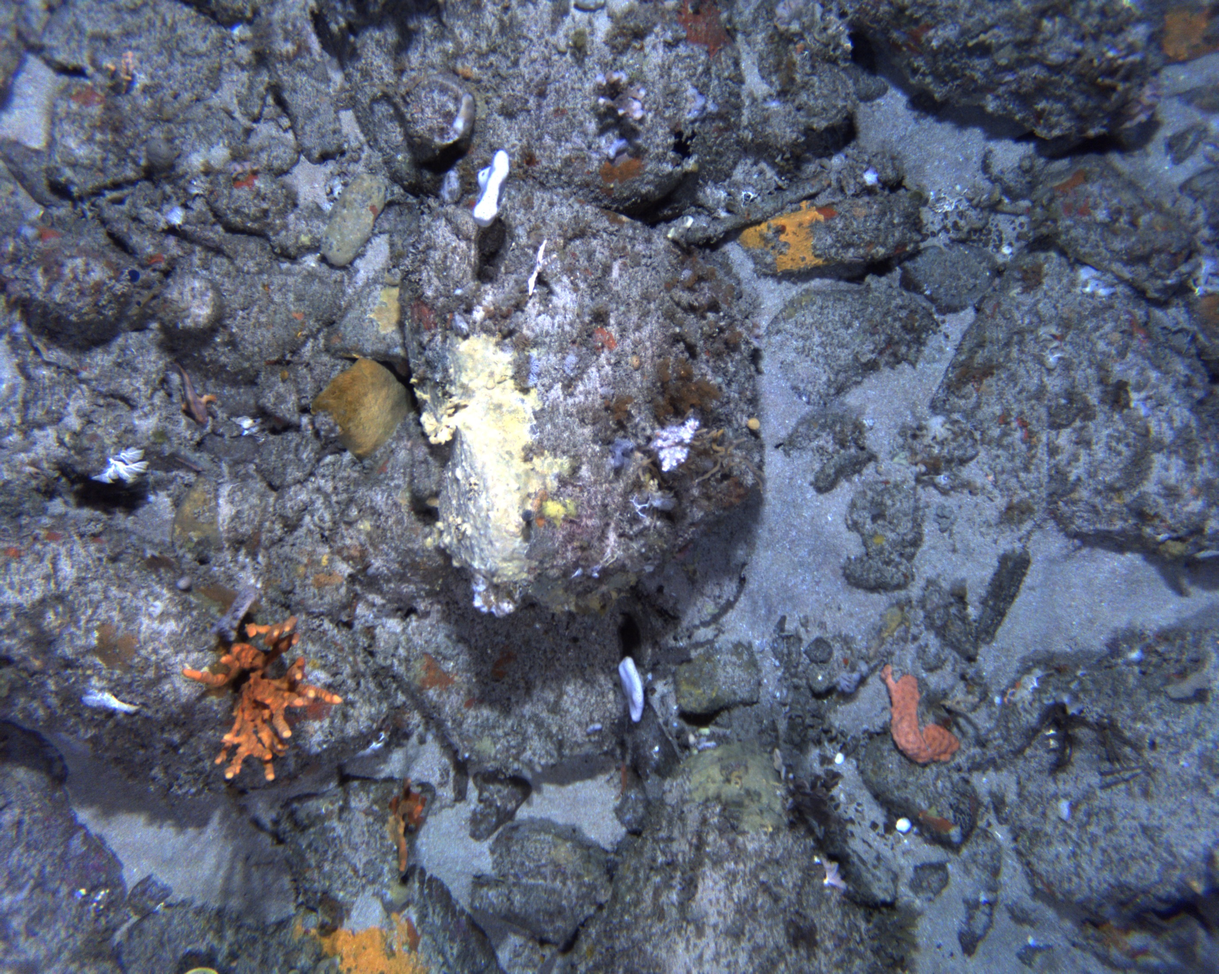Brachionichthyidae: (170, 359, 221, 429)
